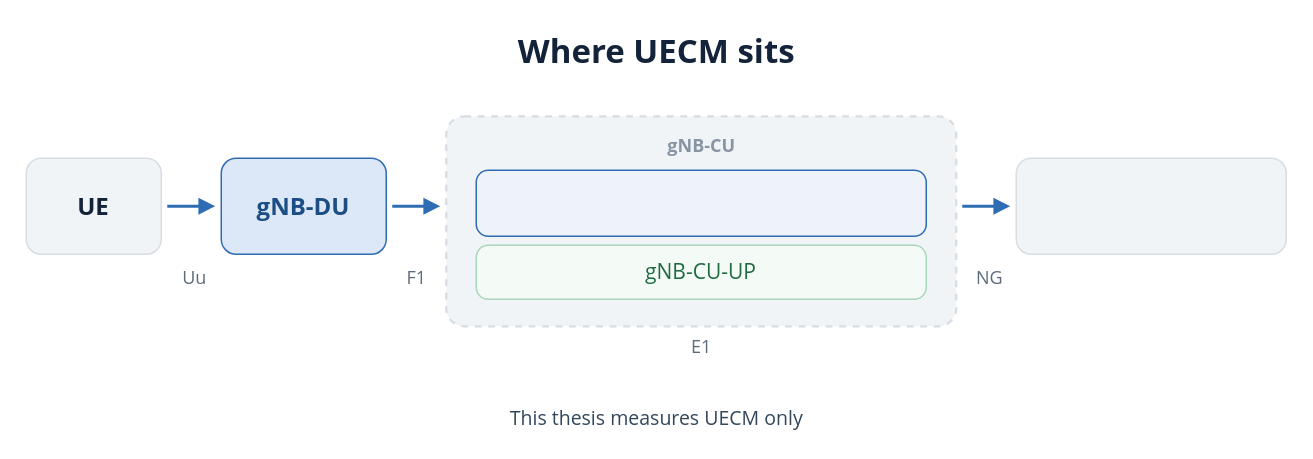
The diagram is 1313 pixels wide and 459 high, and some of its shapes have lost their labels. Each missing label, with the centre of its shape:
"5G Core" belongs at point 1150,205.
"gNB-CU-CP UECM" belongs at point 700,202.
